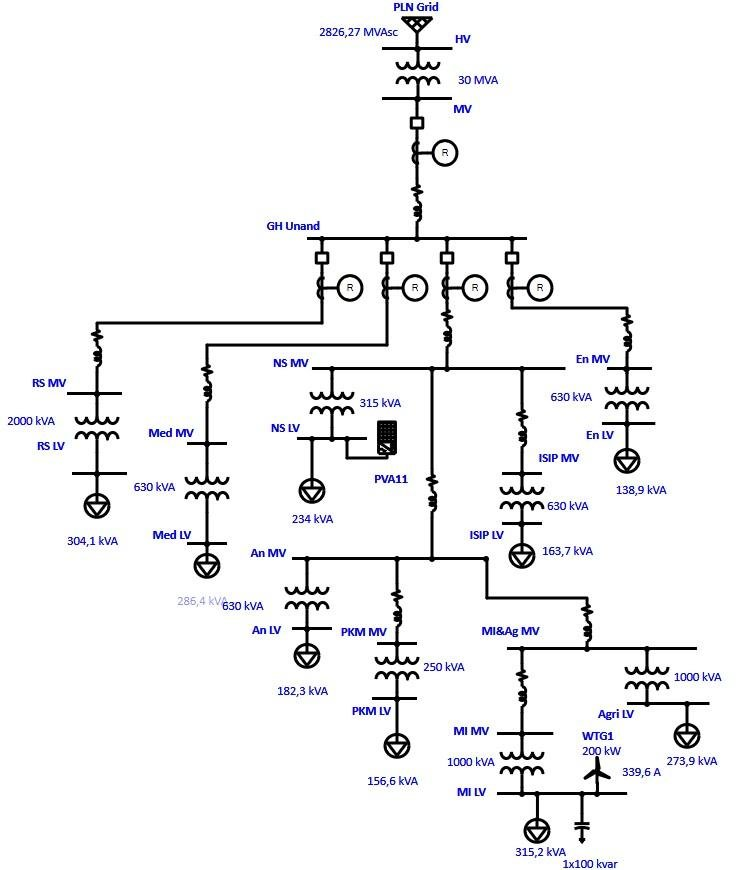transformer: (273, 576, 339, 619), (382, 52, 450, 91), (175, 470, 242, 509), (62, 406, 123, 448), (299, 384, 360, 425), (366, 650, 428, 686), (494, 478, 553, 514), (492, 745, 548, 781), (598, 379, 659, 412), (619, 658, 673, 695)
